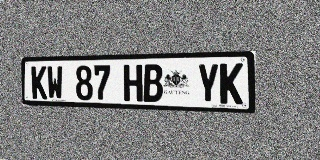7: (93, 65, 111, 101)
8: (75, 65, 93, 100)
B: (143, 64, 163, 102)
H: (123, 65, 143, 102)
K: (220, 63, 243, 104), (31, 66, 47, 99)
W: (47, 66, 63, 100)
Y: (197, 63, 219, 104)
